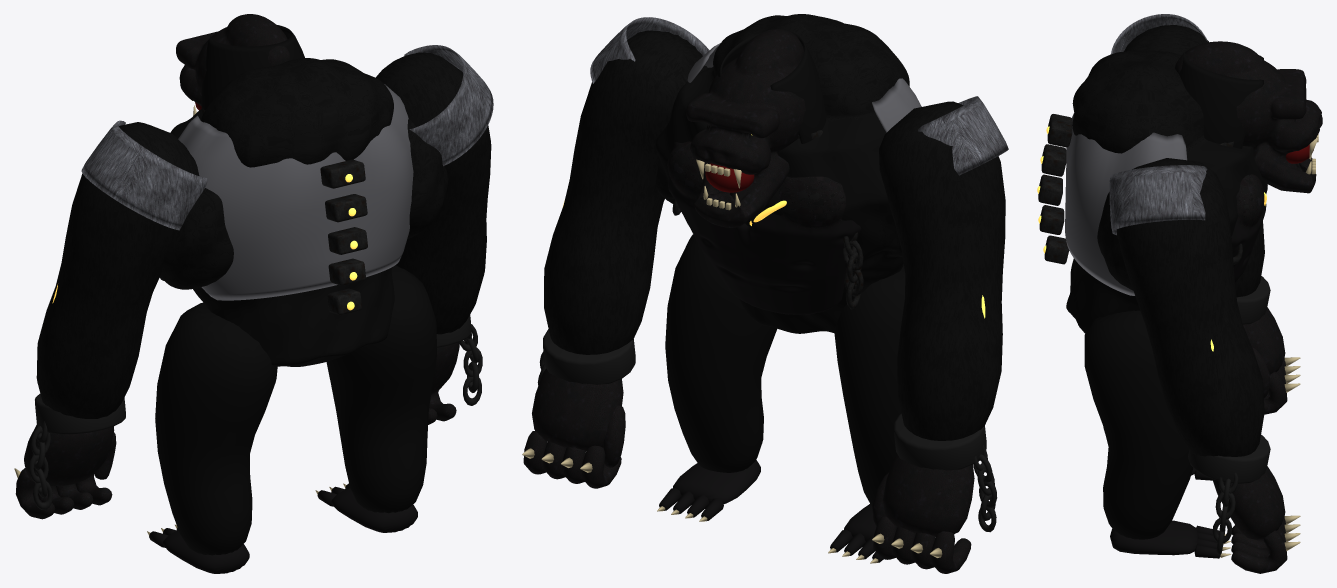
Rendered from boss_gorilla.glb.
The picture shows the model from 3 angles, left to right: view 1: azimuth 30°, elevation 25°; view 2: azimuth 150°, elevation 25°; view 3: azimuth 270°, elevation 25°; orthographic projection. The views are drawn at different scales.
Parts seen in each view (by area): view 1: Torso_Geo, ArmL_Geo, LegL_Geo, ArmR_Geo, LegR_Geo, Head_Geo; view 2: ArmL_Geo, ArmR_Geo, Torso_Geo, LegR_Geo, Head_Geo, LegL_Geo; view 3: ArmR_Geo, Torso_Geo, LegR_Geo, Head_Geo, ArmL_Geo.
Part boxes in pixels (<box>): Torso_Geo: <box>160,58,448,366</box>; ArmL_Geo: <box>14,120,208,519</box>; LegL_Geo: <box>147,302,277,573</box>; ArmR_Geo: <box>375,45,493,424</box>; LegR_Geo: <box>315,265,436,532</box>; Head_Geo: <box>176,14,304,115</box>; ArmL_Geo: <box>872,96,1008,573</box>; ArmR_Geo: <box>522,17,709,488</box>; Torso_Geo: <box>655,14,921,333</box>; LegR_Geo: <box>657,234,776,521</box>; Head_Geo: <box>686,29,826,227</box>; LegL_Geo: <box>828,264,905,563</box>; ArmR_Geo: <box>1109,158,1300,573</box>; Torso_Geo: <box>1037,50,1267,333</box>; LegR_Geo: <box>1084,310,1230,558</box>; Head_Geo: <box>1175,41,1322,193</box>; ArmL_Geo: <box>1110,14,1300,414</box>.
Size of the model in its own units: 2.09 by 2.19 by 1.22.
Materials: 7 (4 with a texture image).
